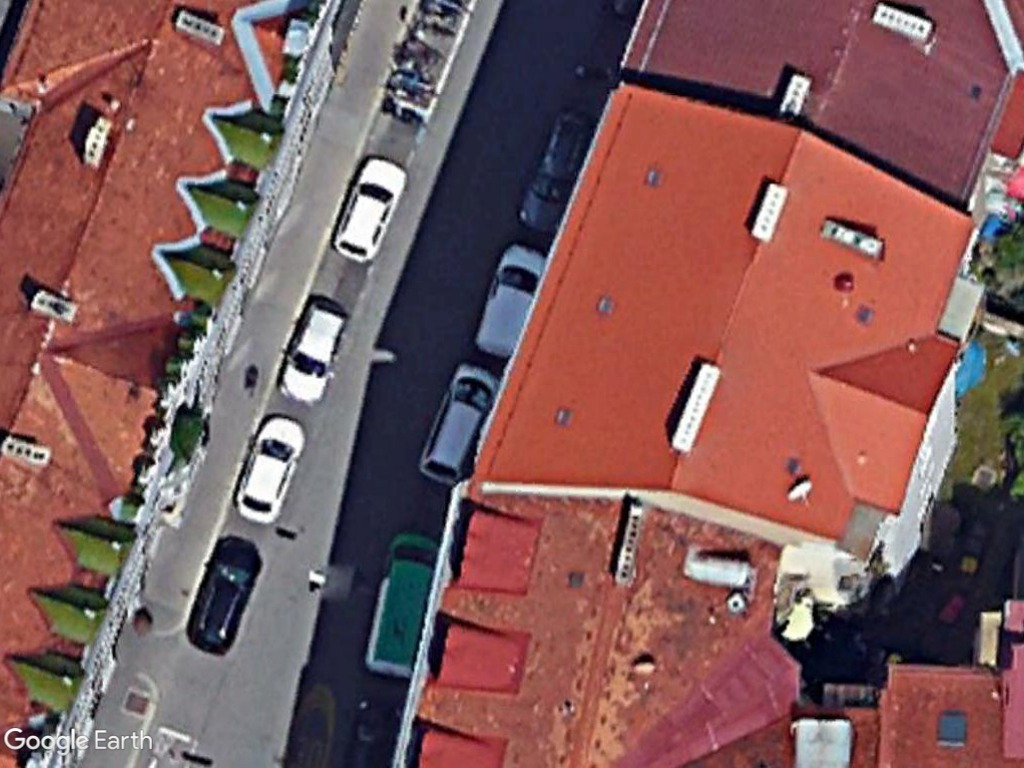car: (414, 359, 502, 490), (473, 235, 549, 370), (331, 148, 416, 267), (182, 532, 260, 658), (230, 411, 309, 527), (276, 292, 350, 405)
van: (366, 528, 444, 680)
